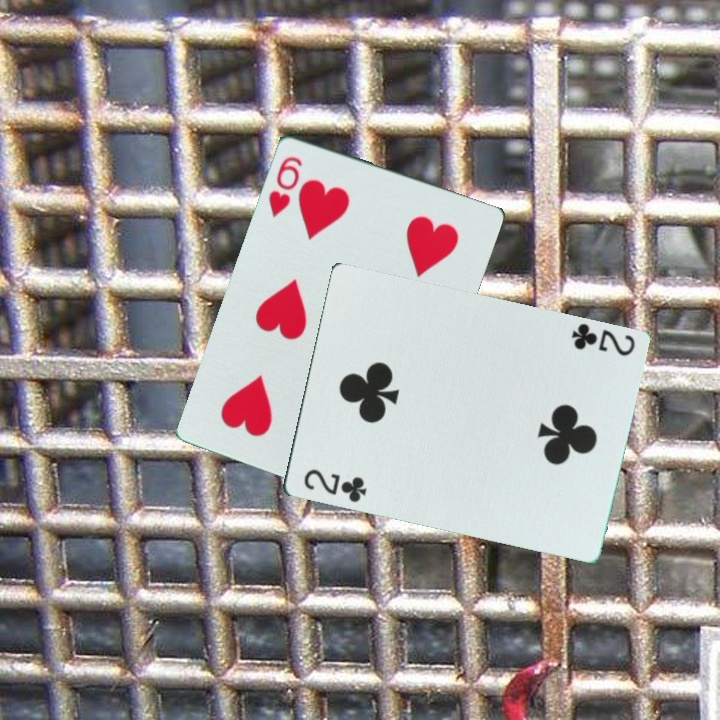2c: (299, 465, 369, 506), (567, 320, 638, 360)
6h: (264, 152, 305, 220)
